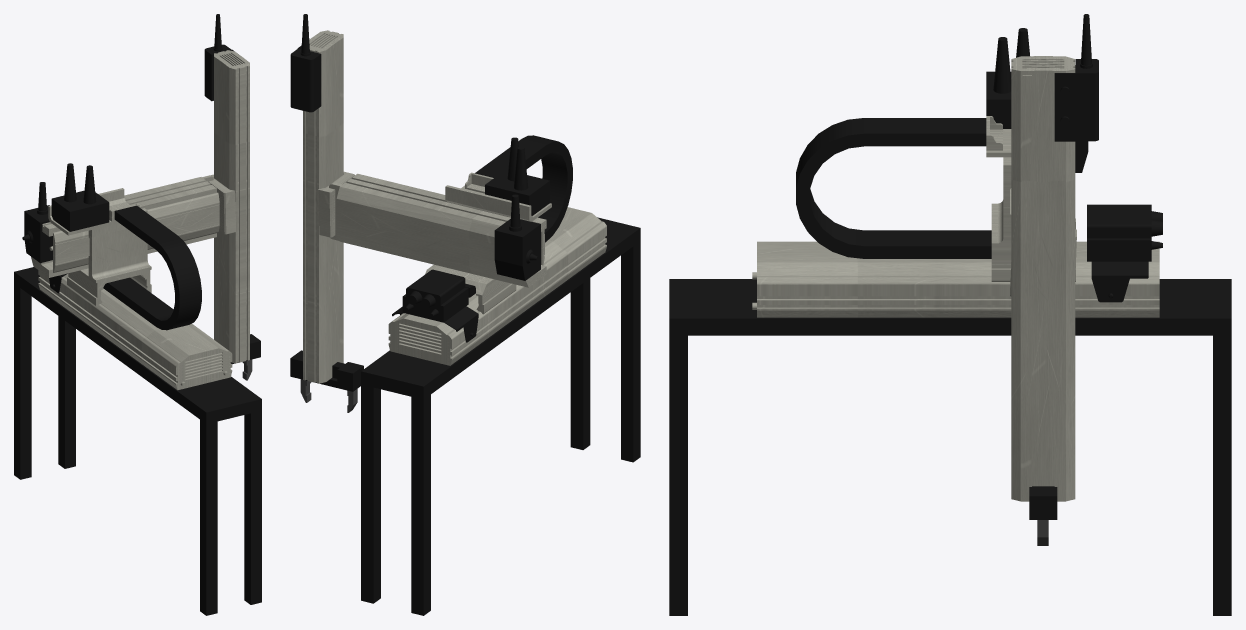
File: Pick_and_Place_Robot_LongZ.glb
The picture shows the model from 3 angles, left to right: view 1: azimuth 30°, elevation 25°; view 2: azimuth 150°, elevation 25°; view 3: azimuth 270°, elevation 25°; orthographic projection. The views are drawn at different scales.
Parts seen in each view (by area): view 1: color-8.002, PP_Machine_Floating_X_Rebuilt, color.003, color-9.002, color-5[5], PP_Floating_X_Bodies, color-5.002, color[1].001; view 2: color-8.002, color-5[5], color.003, color-9.002, PP_Machine_Floating_X_Rebuilt, color-9[1], color-5.002, color[1].001, PP_Floating_X_Bodies, PP_Gripper; view 3: color.003, color-8.002, color-9.002, PP_Machine_Floating_X_Rebuilt, color-9[1], color[1].001, PP_Floating_X_Bodies, PP_Gripper.
Boxes of the visible parts, x1,y1,x2,y2 form: color-8.002: (14,267,261,615); PP_Machine_Floating_X_Rebuilt: (48,163,201,330); color.003: (214,50,249,363); color-9.002: (38,270,232,390); color-5[5]: (31,174,236,277); PP_Floating_X_Bodies: (51,165,109,231); color-5.002: (24,205,52,263); color[1].001: (204,14,234,101); color-8.002: (361,217,640,615); color-5[5]: (318,171,546,287); color.003: (303,30,343,383); color-9.002: (388,207,606,365); PP_Machine_Floating_X_Rebuilt: (425,135,572,314); color-9[1]: (392,269,478,342); color-5.002: (494,219,540,280); color[1].001: (290,14,321,112); PP_Floating_X_Bodies: (485,137,549,215); PP_Gripper: (290,350,363,391); color.003: (1011,56,1075,501); color-8.002: (669,279,1231,615); color-9.002: (752,241,1159,317); PP_Machine_Floating_X_Rebuilt: (796,28,1075,281); color-9[1]: (1087,204,1162,302); color[1].001: (1054,14,1098,141); PP_Floating_X_Bodies: (986,37,1011,128); PP_Gripper: (1029,486,1057,519).
Bounding box in the file's own units: 0.4028 × 0.79 × 0.6.
Materials: 4 (1 with a texture image).
